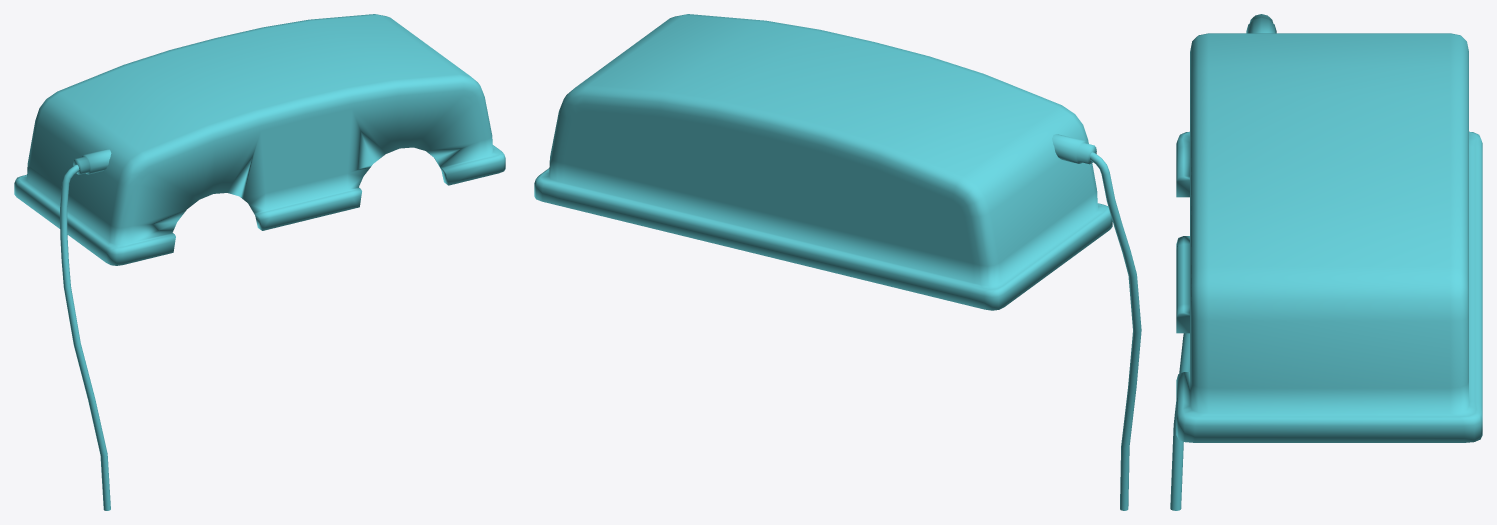
File: Oxygen_Sensor.gltf
The picture shows the model from 3 angles, left to right: view 1: azimuth 30°, elevation 25°; view 2: azimuth 150°, elevation 25°; view 3: azimuth 270°, elevation 25°; orthographic projection. The views are drawn at different scales.
Parts seen in each view (by area): view 1: Oxygen_Sensor; view 2: Oxygen_Sensor; view 3: Oxygen_Sensor.
Boxes of the visible parts, bbox=[...] form: Oxygen_Sensor: bbox=[14, 14, 505, 510]; Oxygen_Sensor: bbox=[534, 14, 1141, 510]; Oxygen_Sensor: bbox=[1170, 14, 1482, 510].
Bounding box in the file's own units: 0.3287 × 0.2588 × 0.1383.
